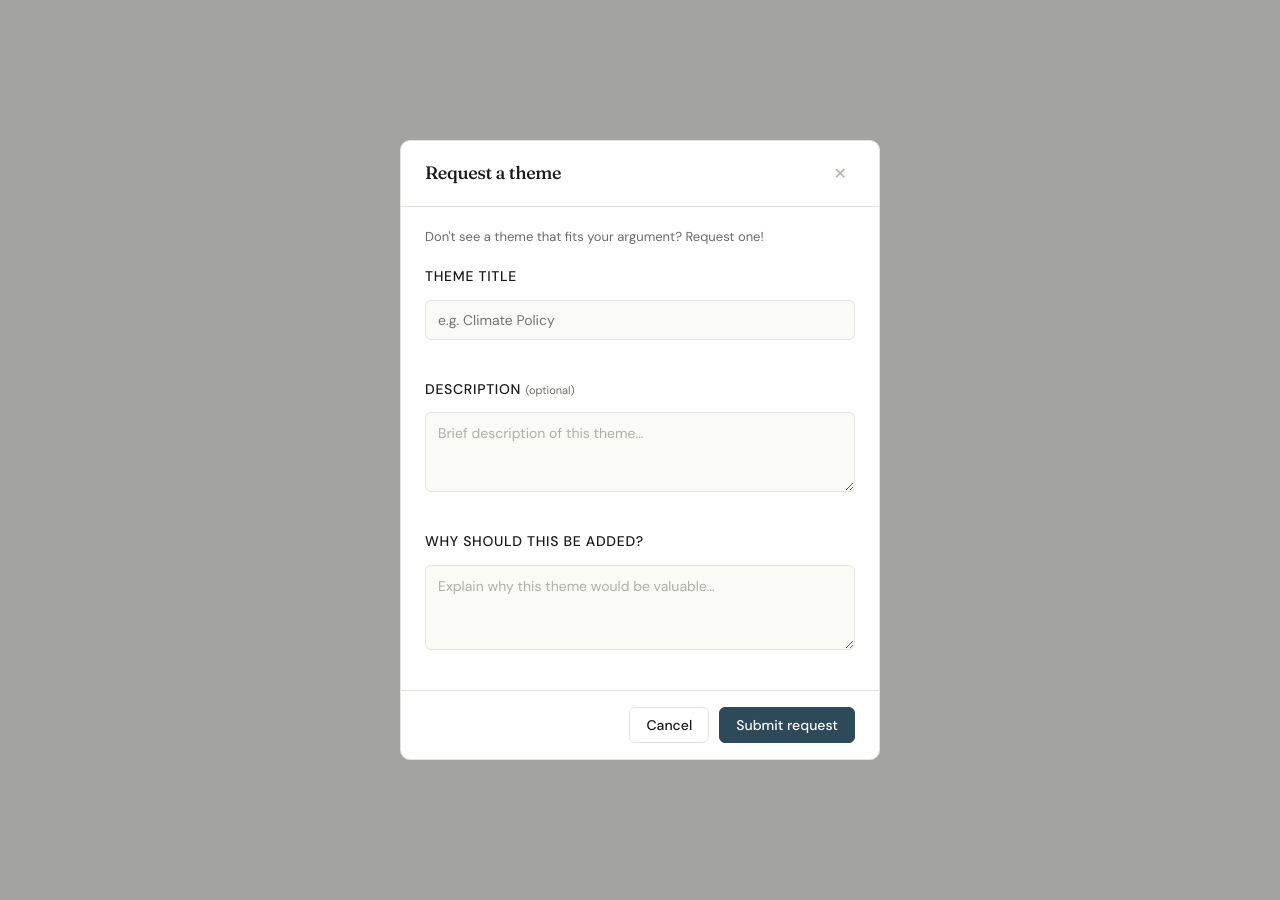
Test case: ThemeRequestForm › shows validation error when reason is empty
In the field labelled "Theme title": (640, 320) [425, 300, 855, 340], type "My Theme"
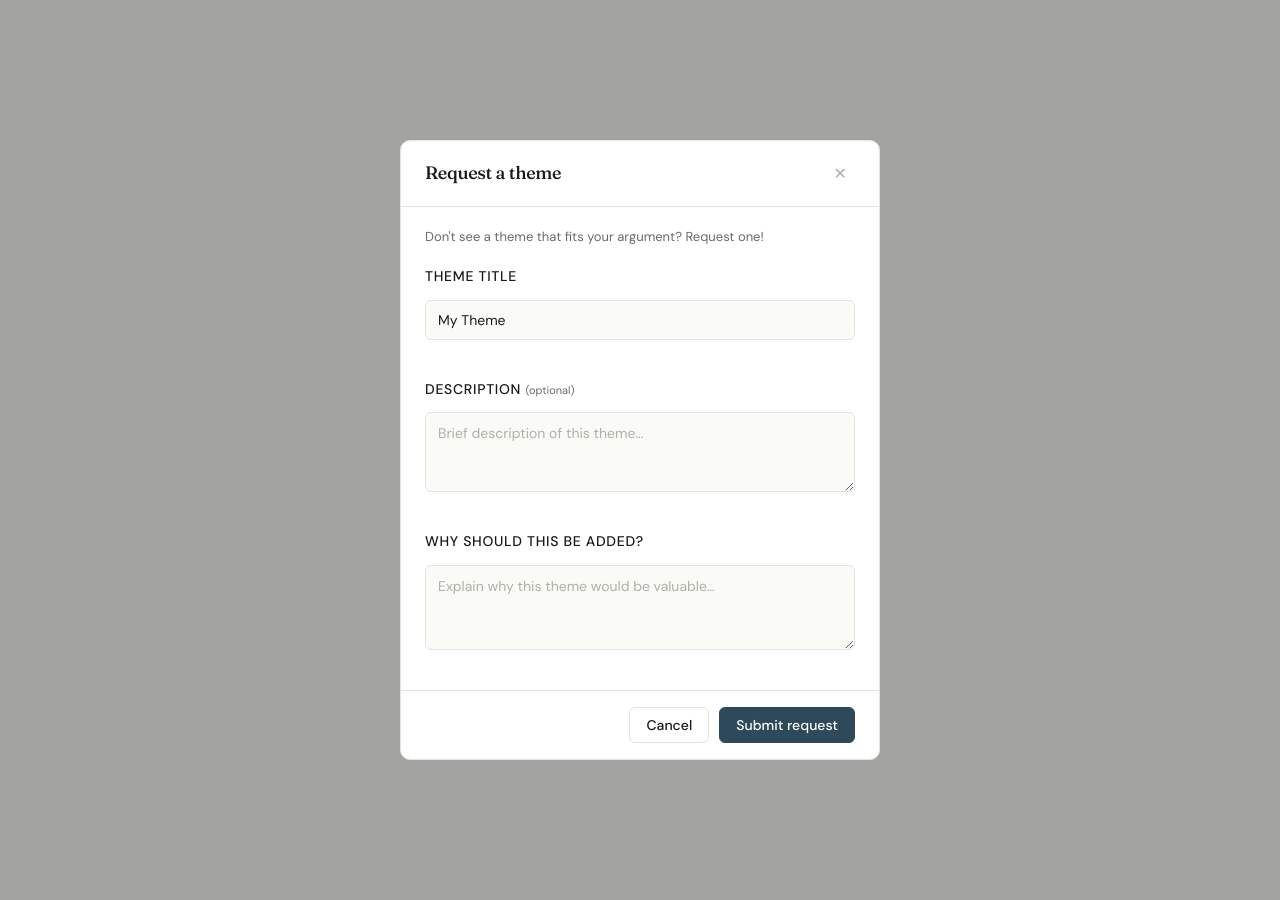
Click the button "Submit request": click(787, 725) [719, 707, 855, 743]
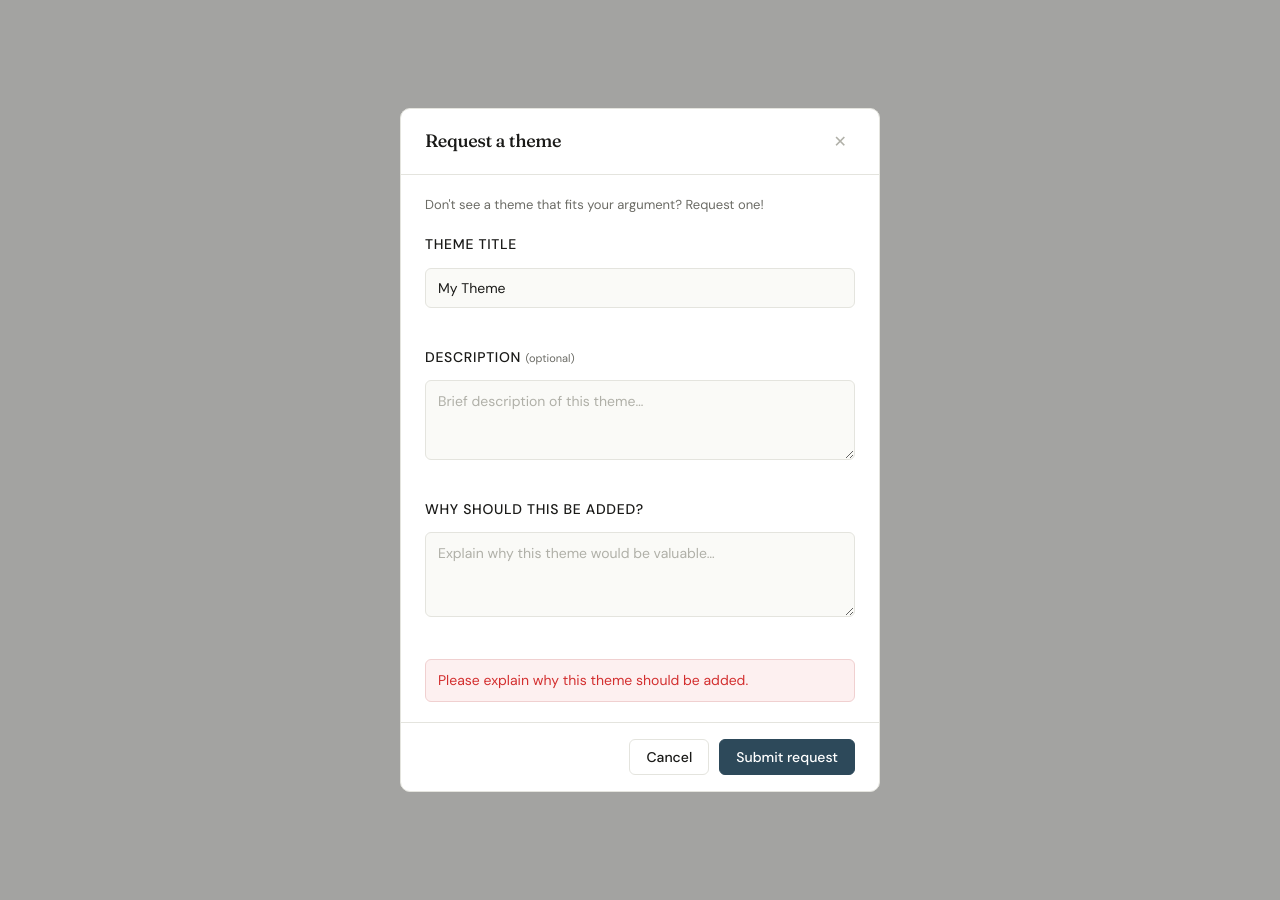
expect the text "Please explain why this theme should be added." is shown: met, box [425, 660, 855, 702]
